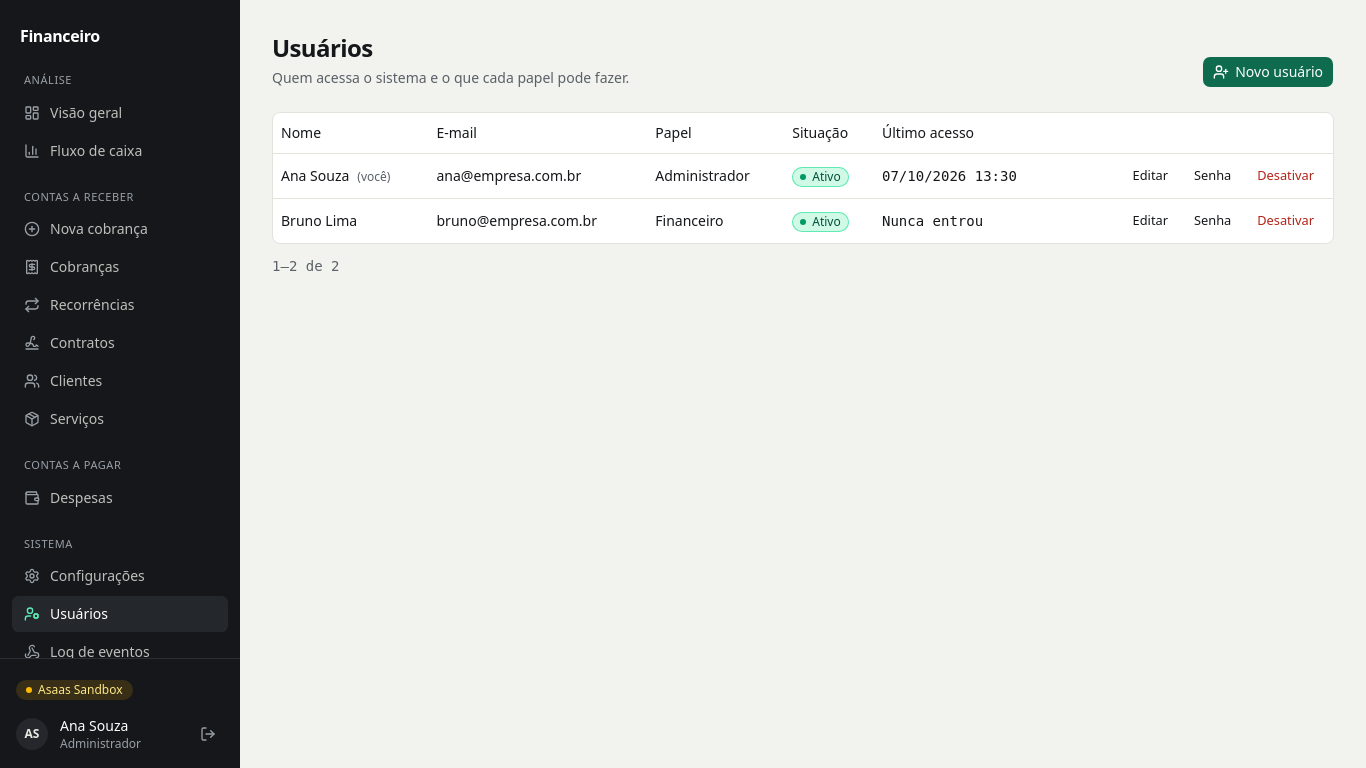
Test: [FND-03.1] Usuários › desativa só depois de confirmar
Expected: the text "Bruno Lima" is shown, [273,198,428,242]
Click the button with aria-label "Desativar Bruno Lima" at (1286, 220), box [1246,206,1325,234]
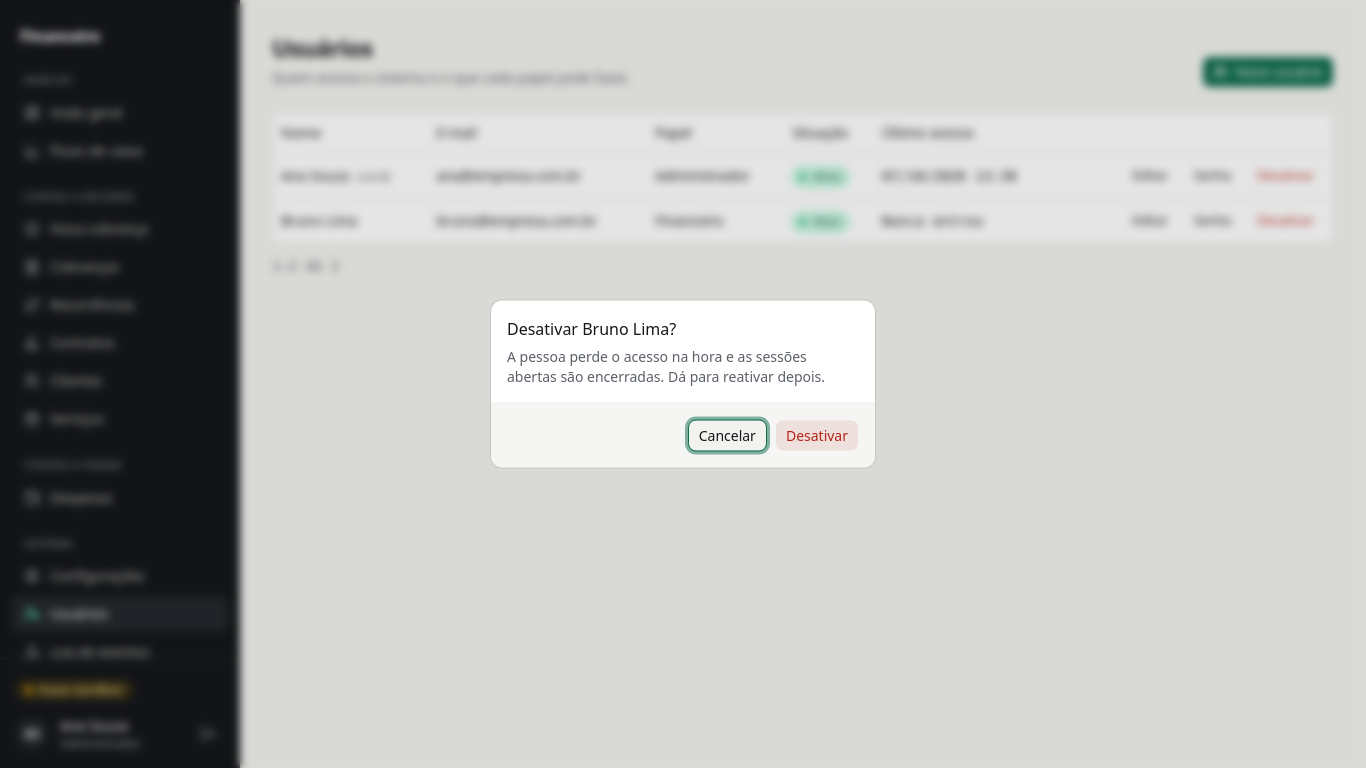
Click the button "Desativar" at (817, 436), box [775,420,859,452]
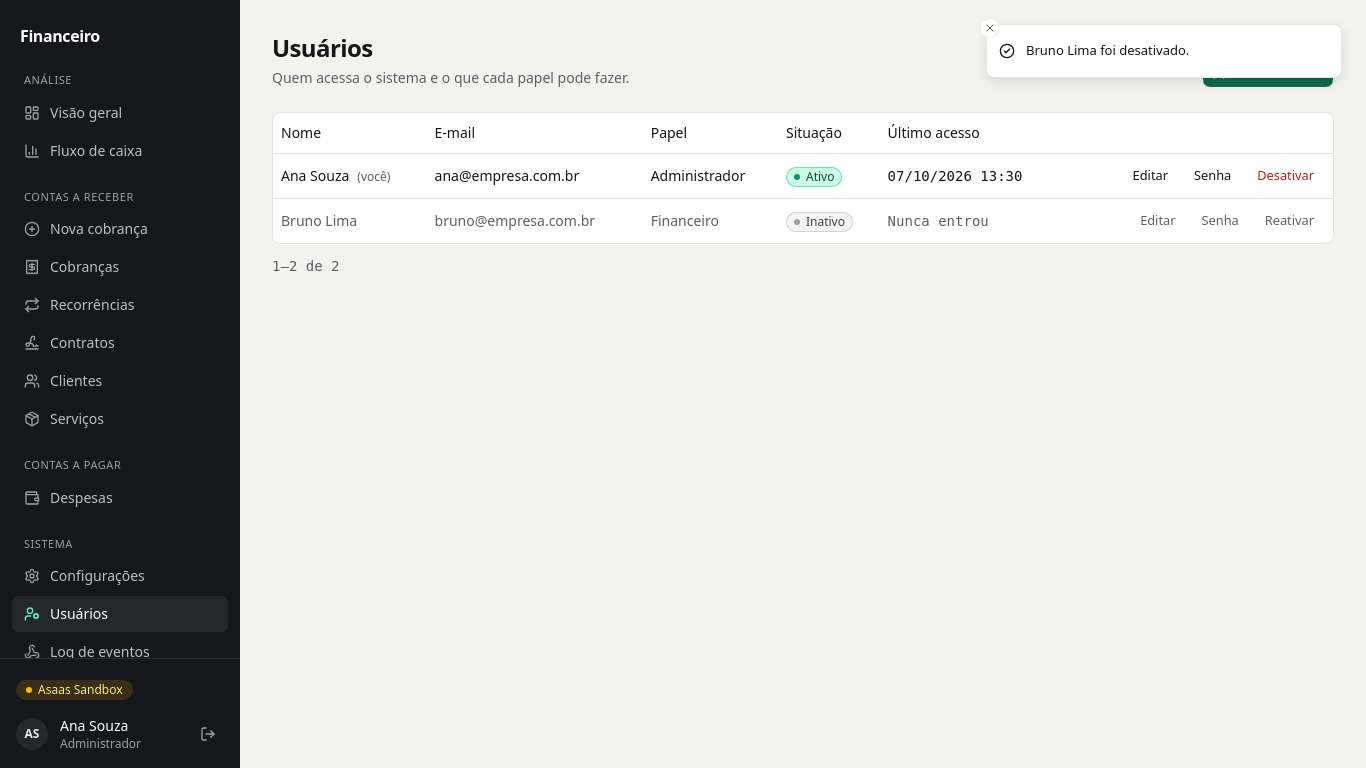
Expected: the text "Inativo" is shown, [786,212,853,232]
Expected: the button with aria-label "Reativar Bruno Lima" is shown, [1254,206,1325,234]
